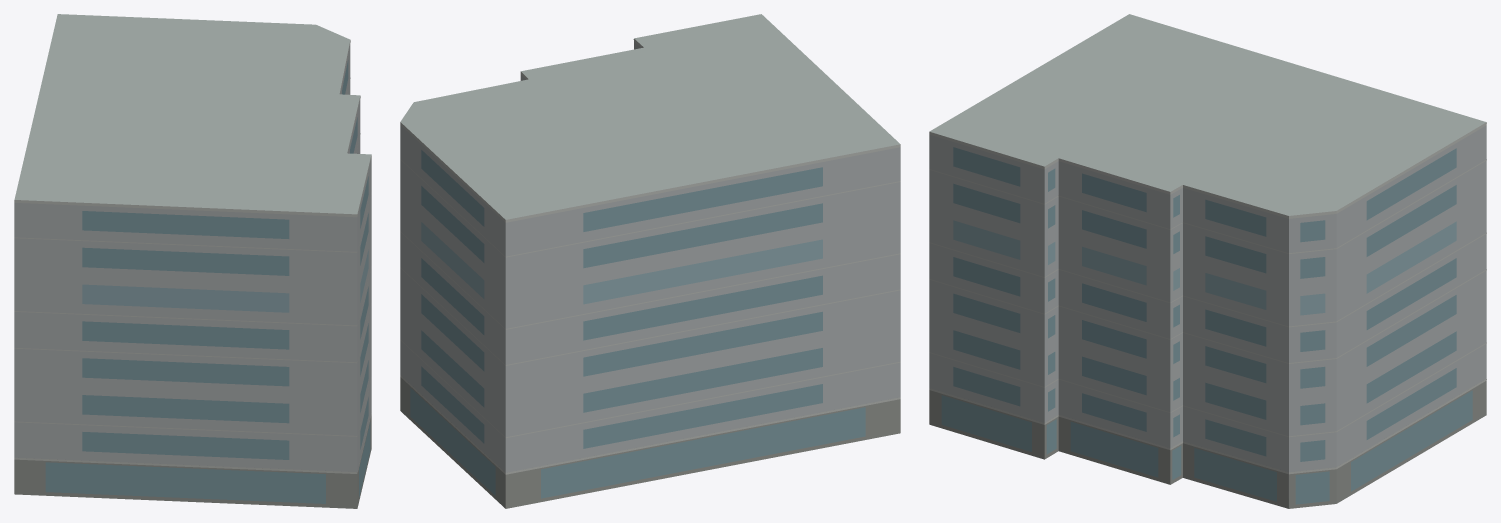
The model's file is survey-upis-32987647.glb.
3 renders of one model, left to right at view 1: azimuth 30°, elevation 25°; view 2: azimuth 150°, elevation 25°; view 3: azimuth 270°, elevation 25°, orthographic.
Parts seen in each view (by area): view 1: survey-upis-32987647.tmp; view 2: survey-upis-32987647.tmp; view 3: survey-upis-32987647.tmp.
Part boxes in pixels (box(x1,y1,x2,y2)): survey-upis-32987647.tmp: box(14, 14, 371, 508); survey-upis-32987647.tmp: box(400, 14, 900, 508); survey-upis-32987647.tmp: box(929, 14, 1486, 508).
Bounding box in the file's own units: 36.1 × 24.4 × 42.1.
